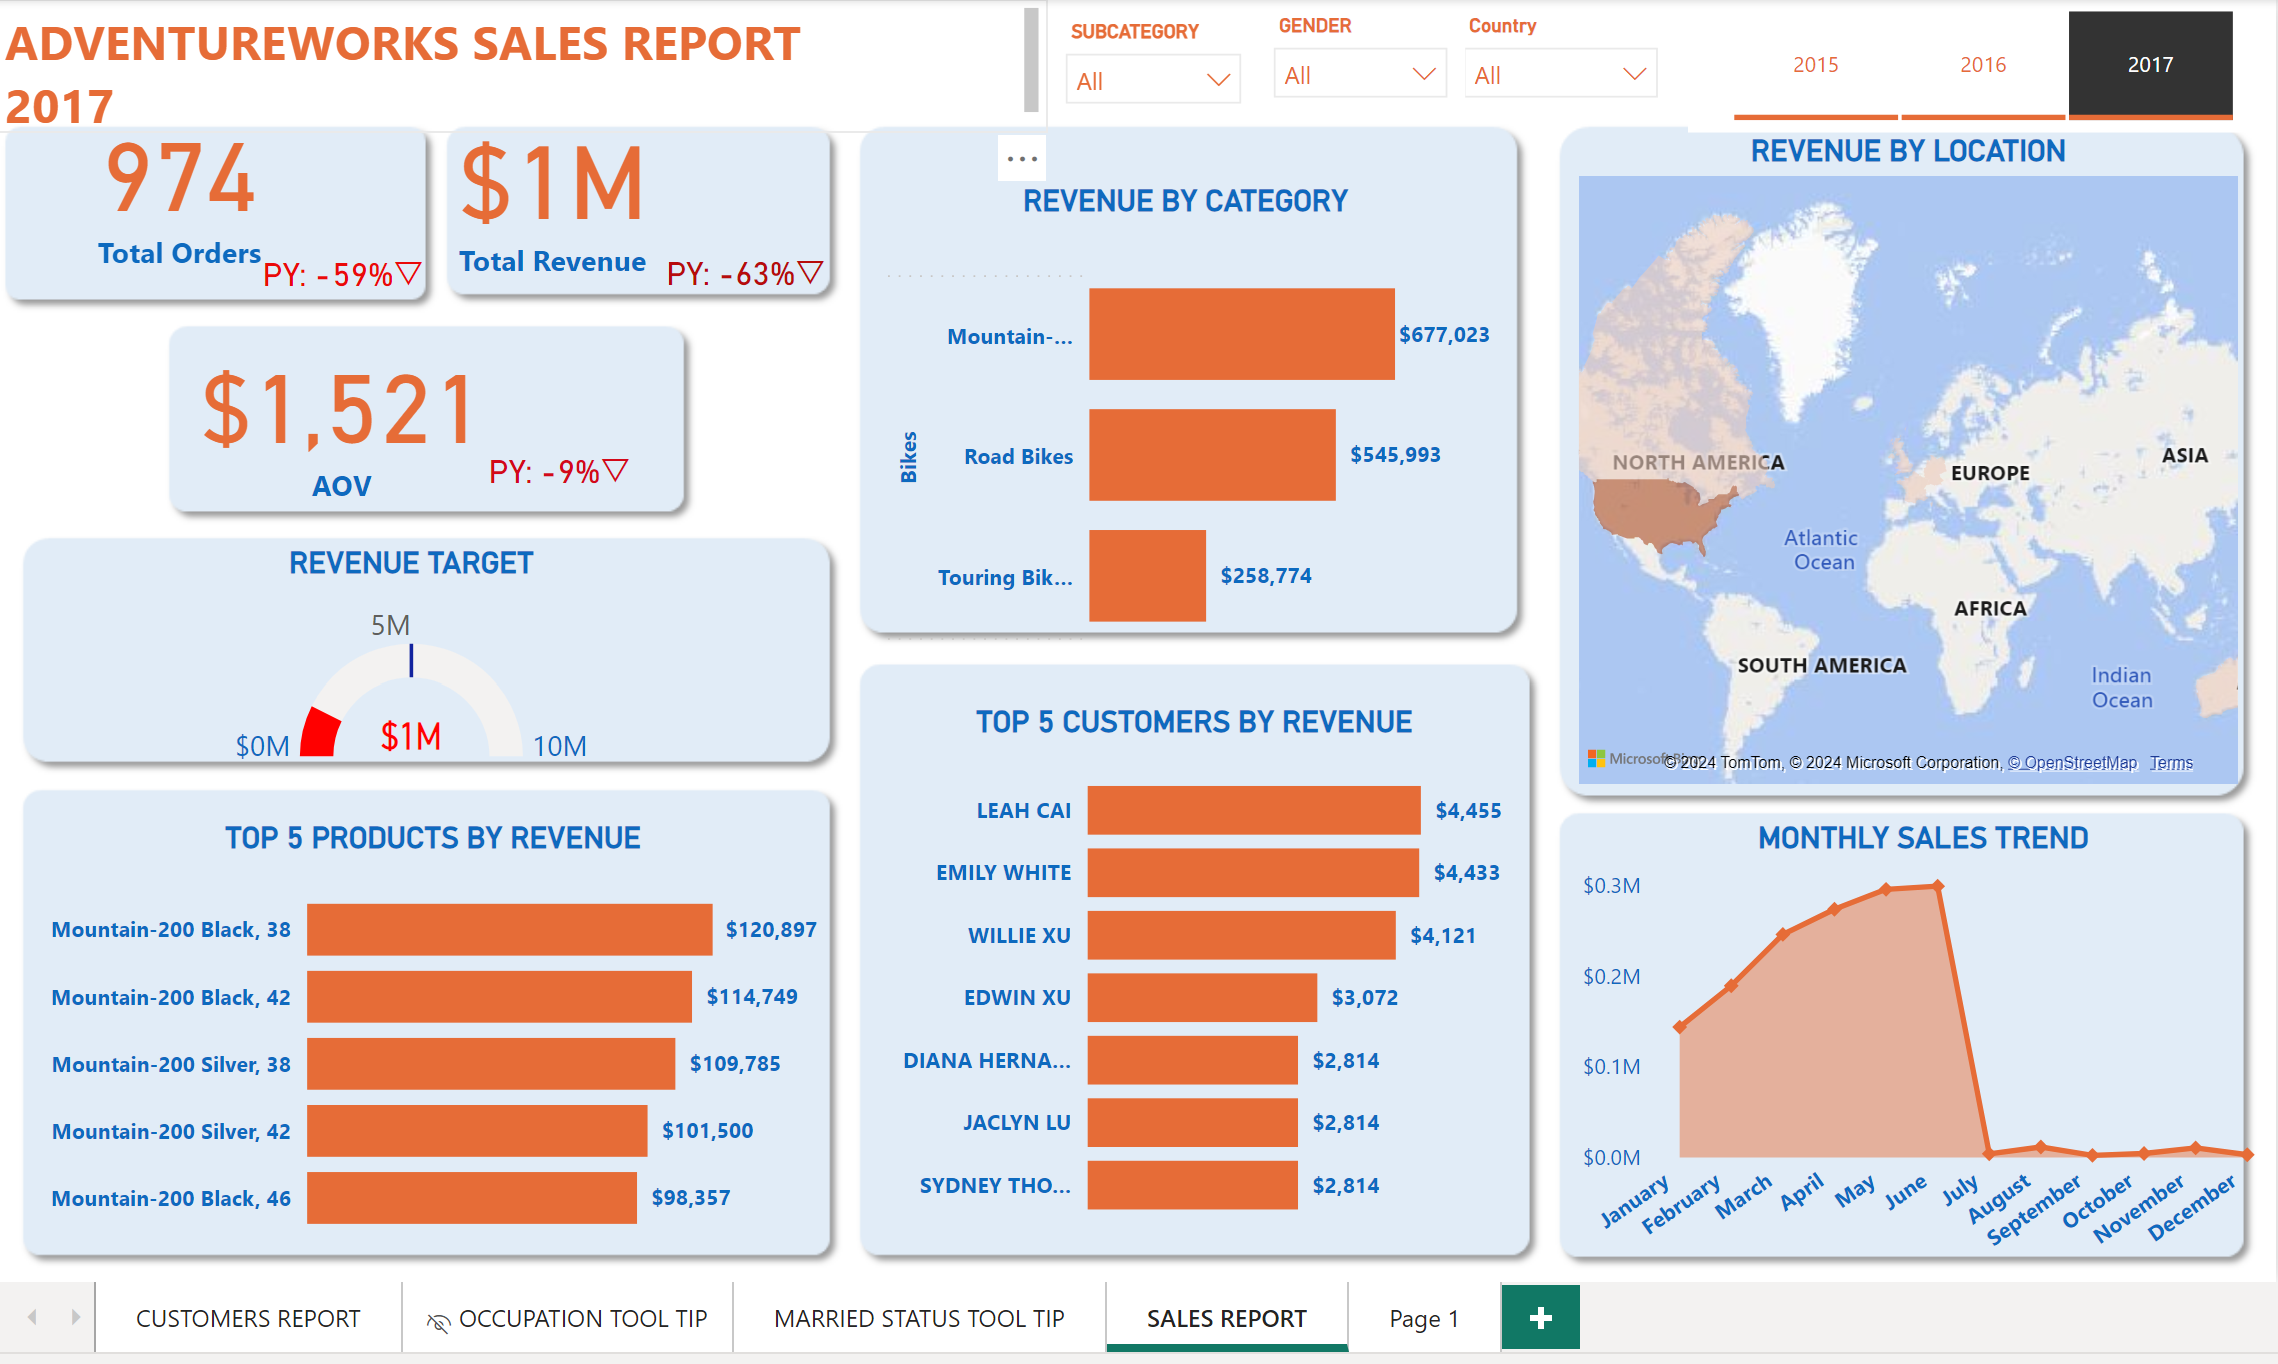

This screenshot's page, from the dashboard's own definition file:
{"tool":"powerbi","page":{"name":"SALES","canvas":[1280,720],"ordinal":3},"visuals":[{"type":"card","fields":{"Values":["DAX Measures.AOV"]},"box":[93.3,183.9,202,100.3],"z":0},{"type":"card","fields":{"Values":["DAX Measures.Revenue Growth %"]},"box":[344,117,154.6,75.2],"z":1000},{"type":"card","fields":{"Values":["DAX Measures.Order Growth %"]},"box":[117,96.1,156,117],"z":2000},{"type":"card","fields":{"Values":["DAX Measures.AOV Growth %"]},"box":[239.7,234.6,154.3,62.5],"z":3000},{"type":"clusteredBarChart","title":"REVENUE BY CATEGORY","fields":{"Category":["AdventureWorks_Product_Categories.CategoryName","AdventureWorks_Product_Subcategory.SubcategoryName"],"Y":["DAX Measures.Total Revenue1"]},"box":[491.7,103.1,352.4,281.3],"z":4000},{"type":"clusteredBarChart","title":"TOP 5 PRODUCTS BY REVENUE","fields":{"Category":["AdventureWorks_Products.ProductName"],"Y":["DAX Measures.Total Revenue1"]},"box":[25.1,461,441.5,247.9],"z":5000},{"type":"clusteredBarChart","title":"TOP 5 CUSTOMERS BY REVENUE","fields":{"Category":["AdventureWorks_Customers.FullName"],"Y":["DAX Measures.Total Revenue1"]},"box":[491.7,395.6,362.1,303.6],"z":6000},{"type":"filledMap","title":"REVENUE BY LOCATION","fields":{"Category":["AdventureWorks_Territories.Country"]},"box":[884.4,75.2,380.2,370.5],"z":7000},{"type":"areaChart","title":"MONTHLY SALES TREND","fields":{"Category":["Calendar.Month"],"Y":["DAX Measures.Total Revenue1"]},"box":[884.4,461,397,260.5],"z":8000},{"type":"card","fields":{"Values":["DAX Measures.Total Revenue"]},"box":[206.1,54.3,211.7,104.5],"z":9000},{"type":"gauge","title":"REVENUE TARGET","fields":{"TargetValue":["AdventureWorks_Customers.Rev Target"],"MaxValue":["AdventureWorks_Customers.Rev Max"],"Y":["DAX Measures.Total Revenue1"]},"box":[0,306.4,466.6,128.1],"z":10000},{"type":"textbox","box":[0,0,590.6,75.2],"z":11000},{"type":"slicer","fields":{"Values":["AdventureWorks_Territories.Country"]},"box":[814.7,3.8,128.8,63.7],"z":12000},{"type":"card","fields":{"Values":["DAX Measures.Total Orders"]},"box":[0,52.9,206.1,101.7],"z":13000},{"type":"slicer","fields":{"Values":["Calendar.Year"]},"box":[949.9,0,330.1,75.2],"z":14000},{"type":"slicer","fields":{"Values":["AdventureWorks_Customers.Gender"]},"box":[707.6,3.8,117.3,66.3],"z":15000},{"type":"slicer","fields":{"Values":["AdventureWorks_Product_Subcategory.SubcategoryName"]},"box":[590.3,6.4,118.6,61.2],"z":16000}]}

Visuals, with their boxes on the page's 1280x720 design canvas (x1, y1, x2, y2). These are canvas units, not pixel positions in the 2278x1364 screenshot, which may show the page scaled, cropped or inside an application window:
card - DAX Measures.AOV: crop(93, 184, 295, 284)
card - DAX Measures.Revenue Growth %: crop(344, 117, 499, 192)
card - DAX Measures.Order Growth %: crop(117, 96, 273, 213)
card - DAX Measures.AOV Growth %: crop(240, 235, 394, 297)
"REVENUE BY CATEGORY" clusteredBarChart: crop(492, 103, 844, 384)
"TOP 5 PRODUCTS BY REVENUE" clusteredBarChart: crop(25, 461, 467, 709)
"TOP 5 CUSTOMERS BY REVENUE" clusteredBarChart: crop(492, 396, 854, 699)
"REVENUE BY LOCATION" filledMap: crop(884, 75, 1265, 446)
"MONTHLY SALES TREND" areaChart: crop(884, 461, 1281, 722)
card - DAX Measures.Total Revenue: crop(206, 54, 418, 159)
"REVENUE TARGET" gauge: crop(0, 306, 467, 434)
textbox: crop(0, 0, 591, 75)
slicer - AdventureWorks_Territories.Country: crop(815, 4, 944, 68)
card - DAX Measures.Total Orders: crop(0, 53, 206, 155)
slicer - Calendar.Year: crop(950, 0, 1280, 75)
slicer - AdventureWorks_Customers.Gender: crop(708, 4, 825, 70)
slicer - AdventureWorks_Product_Subcategory.SubcategoryName: crop(590, 6, 709, 68)
